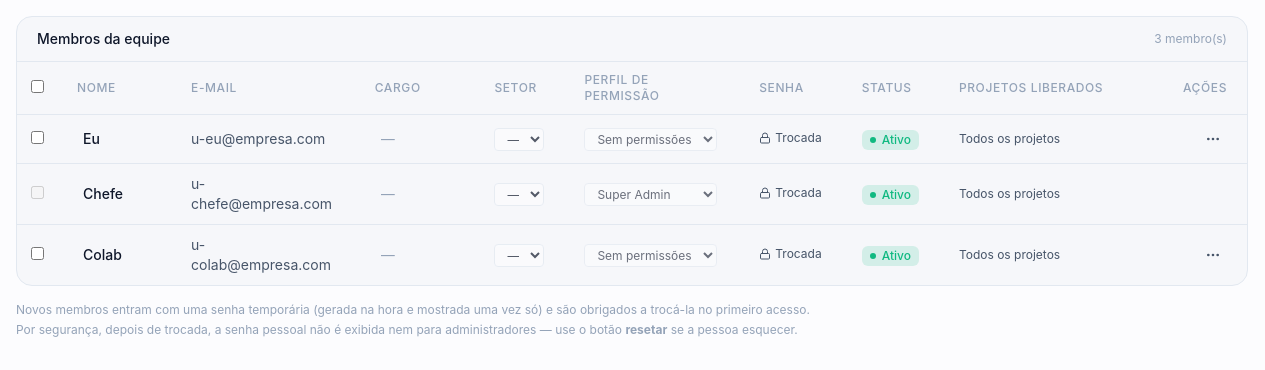
it: excluir sem editar: menu só com excluir, e Super Admin fora da seleção
Expected: the field showing "Colab" next to "u-colab@empresa.com" is shown, [77, 243, 151, 267]
What coordinates should you click on to do the following:
click the button titled "Ações" in the row of "u-colab@empresa.com"
I would click on:
 (1213, 255)
Its box is [1199, 241, 1227, 269].
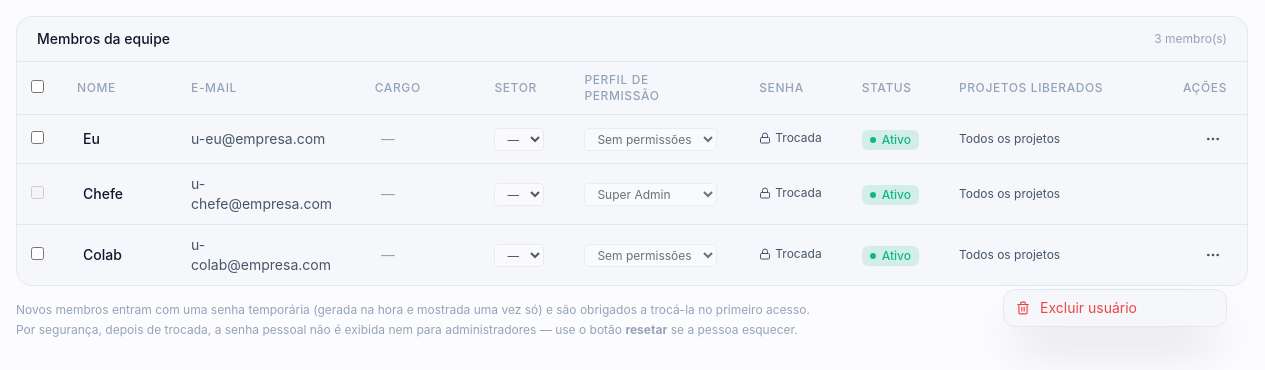
Expected: the checkbox named "Selecionar Chefe" is disabled, [30, 186, 44, 199]
Expected: the button "Excluir usuário" is shown, [1004, 290, 1226, 326]
